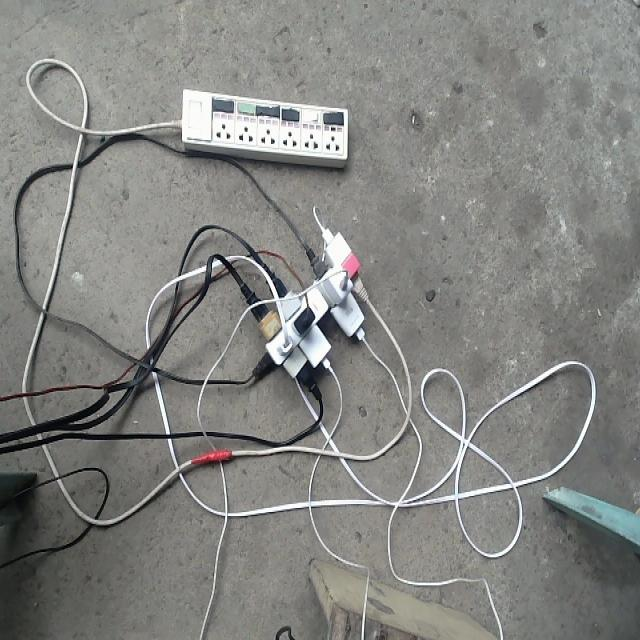-: (240, 227, 373, 390)
